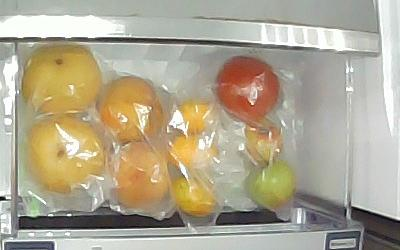peach_vinyl: (98, 75, 164, 141), (112, 143, 170, 209)
pear_vinyl: (27, 117, 106, 193), (21, 45, 100, 116)
tangerine_vinyl: (169, 175, 218, 216), (169, 134, 220, 169), (178, 102, 211, 134)
tomato_vinyl: (216, 55, 284, 121), (247, 165, 299, 213), (240, 121, 285, 165)
